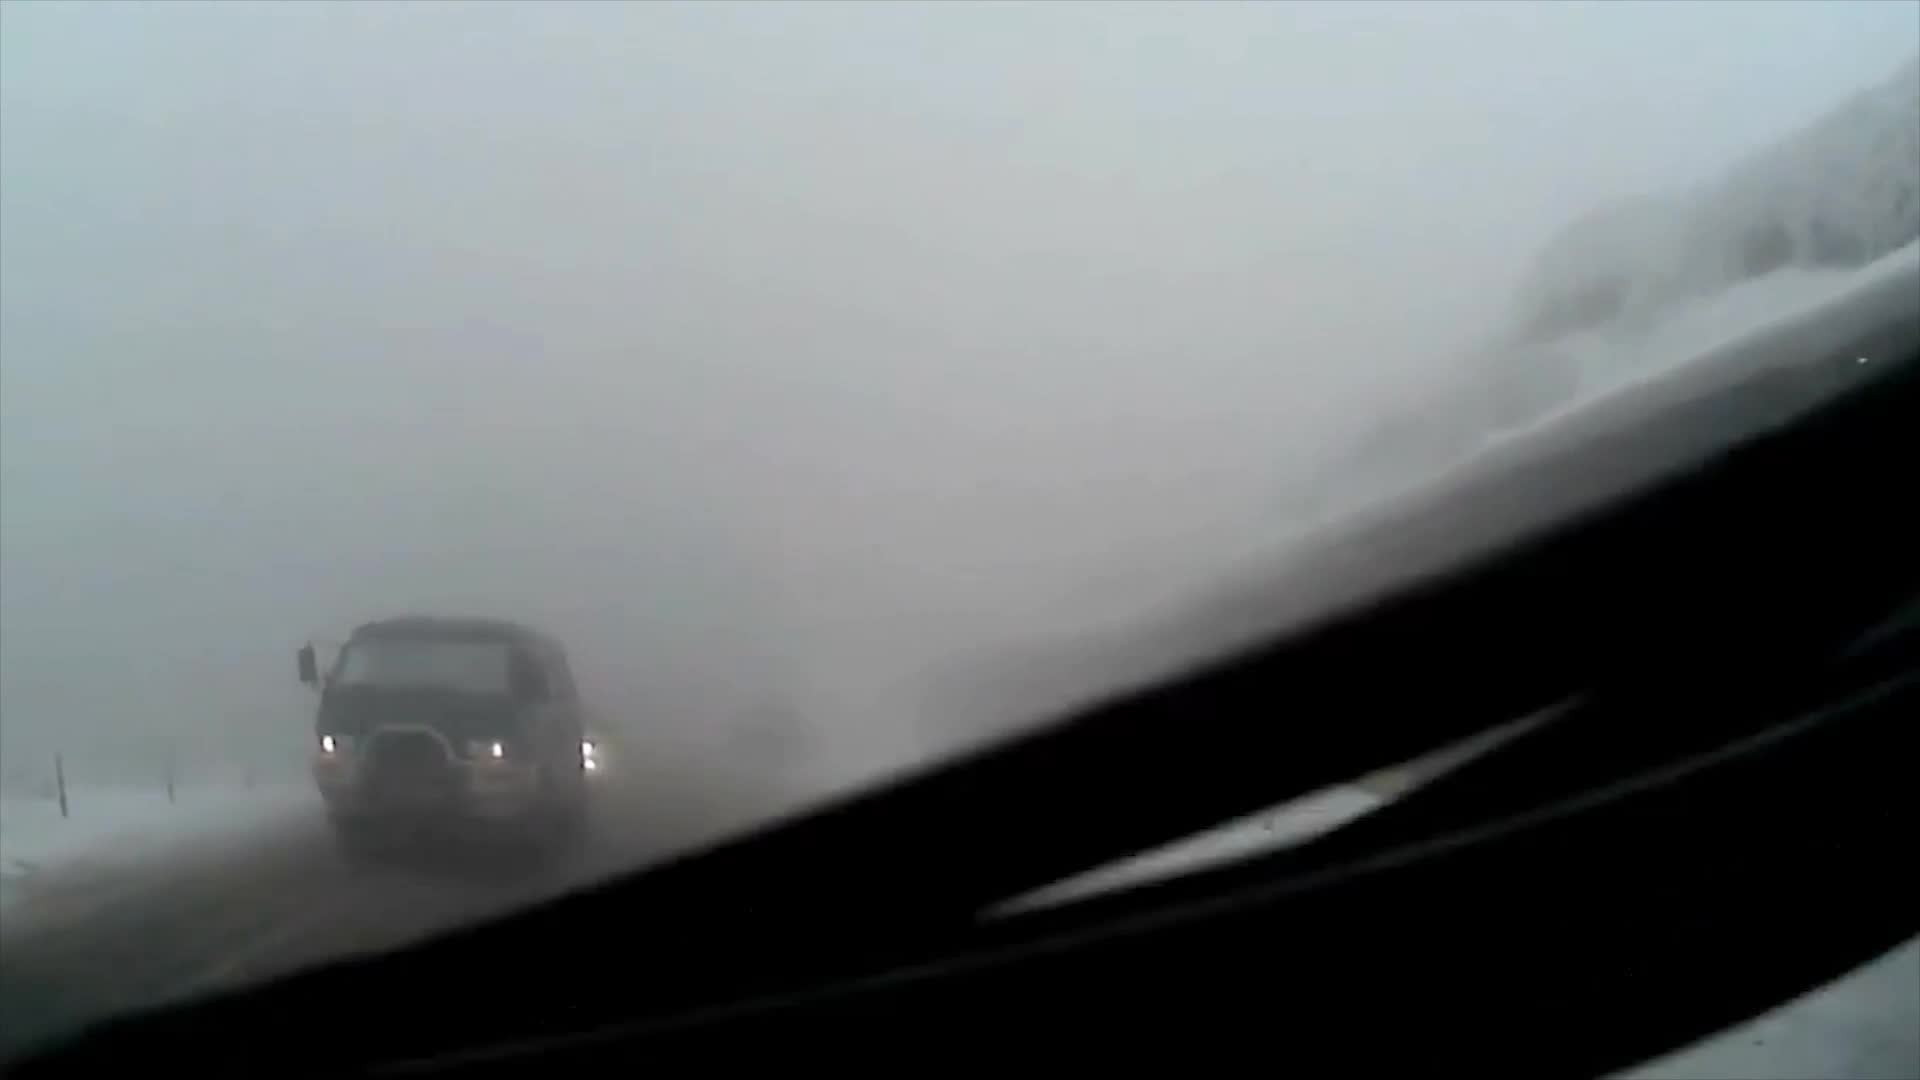vehicle: (291, 616, 589, 884)
